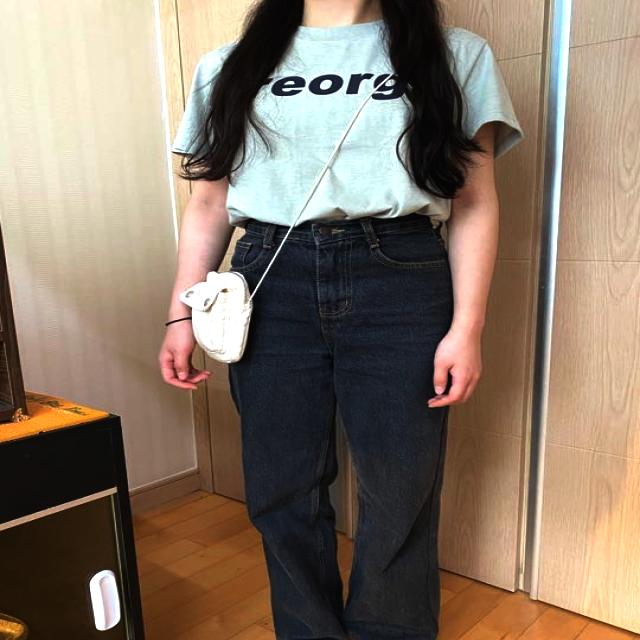denimpants: (228, 213, 450, 640)
shortsleeve: (168, 11, 526, 228)
